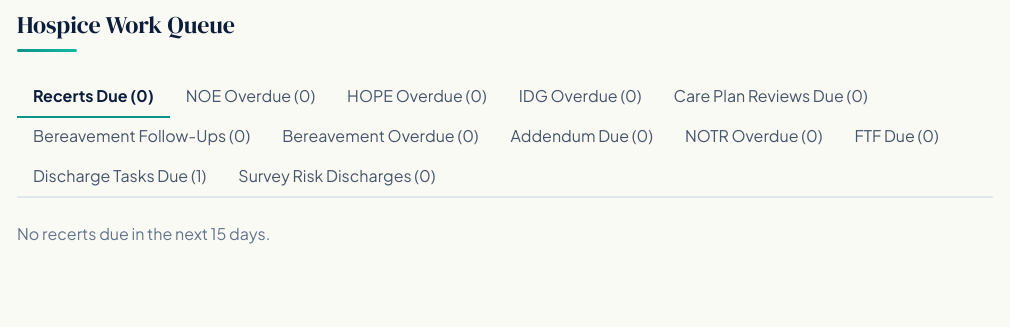
Scenario: HospiceWorkQueue › dischargeTasksDue items render in the new tab
Click the tab "Discharge Tasks Due (1)".
click(120, 177)  # box [17,156,222,198]
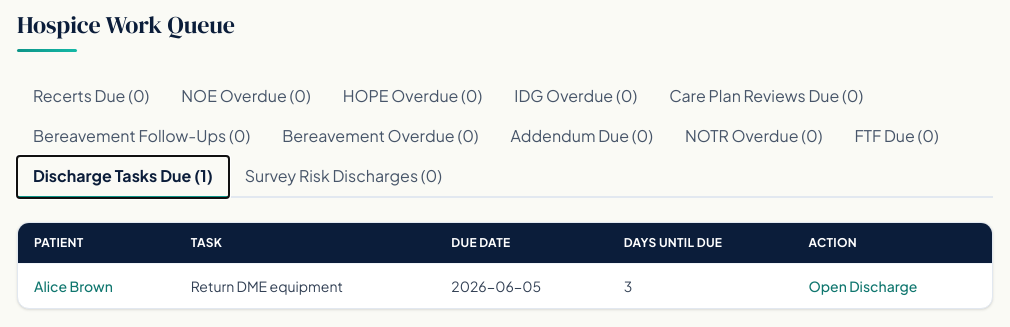
expect the link "Alice Brown" is shown: met, box [34,277,113,295]
expect the text "Return DME equipment" is shown: met, box [175,264,435,308]
expect the link "Open Discharge" is shown: met, box [808,277,918,295]
